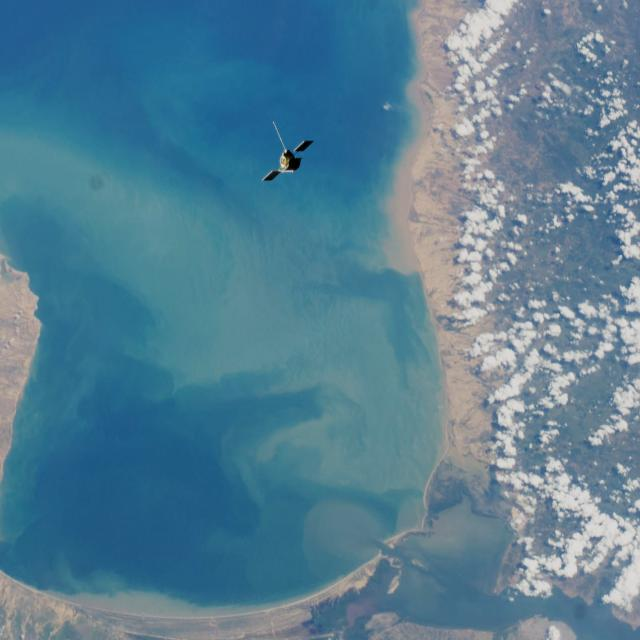medium_debris: (258, 127, 323, 191)
